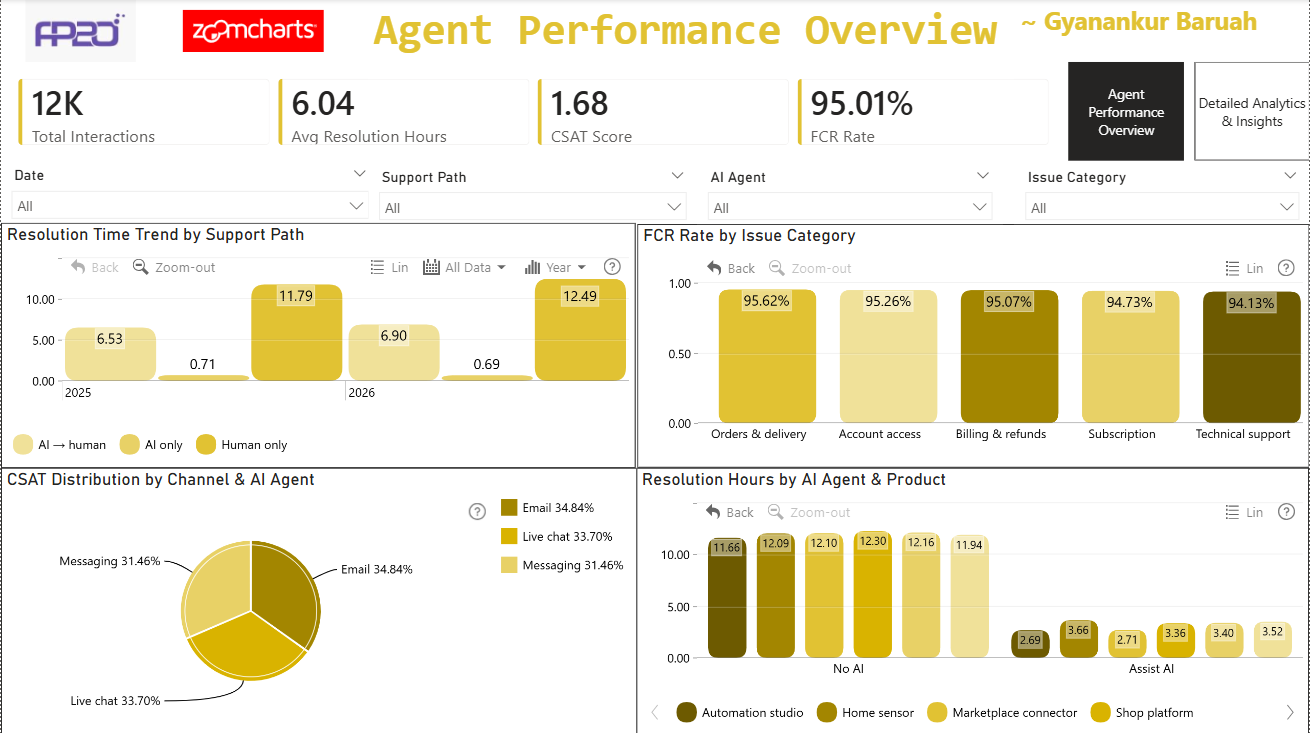

This screenshot's page, from the dashboard's own definition file:
{"tool":"powerbi","page":{"name":"Agent Performance Overview","canvas":[1280,720],"ordinal":0},"visuals":[{"type":"cardVisual","fields":{"Data":["Measures (2).Total Interactions","Measures (2).Avg Resolution Hours","Measures (2).CSAT Score","Measures (2).FCR Rate"]},"box":[0,61.1,1044.3,99],"z":0},{"type":"ZoomChartsFacetChartPaidE77E4ED357DC402ABA005987437CF500","title":"Resolution Hours by AI Agent & Product","fields":{"Category":["DimSupportRoute.AIAgent"],"Legend":["DimProduct.ProductName"],"Values1":["Measures (2).Avg Resolution Hours"]},"box":[621.4,458.6,658.6,261.4],"z":1000},{"type":"ZoomChartsDrillDownTimelinePro7F6C01BA1C534E9AB4A6BCCB44F591","title":"Resolution Time Trend by Support Path","fields":{"Legend":["DimSupportRoute.SupportPath"],"Values1":["Measures (2).Avg Resolution Hours"],"Category":["DimDate.YearMonth.Variation.Date Hierarchy.Year","DimDate.YearMonth.Variation.Date Hierarchy.Quarter","DimDate.YearMonth.Variation.Date Hierarchy.Month","DimDate.YearMonth.Variation.Date Hierarchy.Day"],"DateValue":["Min(DimDate.YearMonth)"]},"box":[0,218.9,621.2,239.7],"z":2000},{"type":"ZoomChartsDrillDownPieProC062D62DA5CE45ECB95B7B1D0E5DA558","title":"CSAT Distribution by Channel & AI Agent","fields":{"Category":["DimSupportRoute.Channel","DimSupportRoute.AIAgent"],"Values":["Measures (2).CSAT Score"]},"box":[0,458.6,622.4,261.7],"z":3000},{"type":"ZoomChartsFacetChartPaidE77E4ED357DC402ABA005987437CF500","title":"FCR Rate by Issue Category ","fields":{"Category":["DimIssueTable.IssueCategory"],"Values1":["Measures (2).FCR Rate"]},"box":[622.4,220.1,657.9,238.5],"z":4000},{"type":"slicer","fields":{"Values":["DimDate.YearMonth.Variation.Date Hierarchy.Year","DimDate.YearMonth.Variation.Date Hierarchy.Quarter","DimDate.YearMonth.Variation.Date Hierarchy.Month","DimDate.YearMonth.Variation.Date Hierarchy.Day"]},"box":[0,158.6,370,55.7],"z":5000},{"type":"slicer","fields":{"Values":["DimSupportRoute.SupportPath"]},"box":[360,160,321.4,58.6],"z":6000},{"type":"slicer","fields":{"Values":["DimSupportRoute.AIAgent"]},"box":[681.4,160,298.6,60],"z":7000},{"type":"slicer","fields":{"Values":["DimIssue.IssueCategory"]},"box":[991.4,160,288.6,60],"z":8000},{"type":"pageNavigator","box":[1044.3,61.1,236,97.8],"z":9000},{"type":"textbox","box":[360,0,631.4,78.6],"z":10000},{"type":"textbox","box":[991.4,0,288.6,61.4],"z":11000},{"type":"image","box":[0,0,155.7,61.4],"z":12000},{"type":"image","box":[168.6,0,155.7,61.4],"z":13000}]}

Visuals, with their boxes in screenshot pixels (x1, y1, x2, y2), scaled from the page's 1280x720 canvas onto the 1310x733 screenshot:
cardVisual - Measures (2).Total Interactions x Measures (2).Avg Resolution Hours: 0:62:1069:163
"Resolution Hours by AI Agent & Product" ZoomChartsFacetChartPaidE77E4ED357DC402ABA005987437CF500: 636:467:1309:732
"Resolution Time Trend by Support Path" ZoomChartsDrillDownTimelinePro7F6C01BA1C534E9AB4A6BCCB44F591: 0:223:636:467
"CSAT Distribution by Channel & AI Agent" ZoomChartsDrillDownPieProC062D62DA5CE45ECB95B7B1D0E5DA558: 0:467:637:732
"FCR Rate by Issue Category " ZoomChartsFacetChartPaidE77E4ED357DC402ABA005987437CF500: 637:224:1309:467
slicer - DimDate.YearMonth.Variation.Date Hierarchy.Year x DimDate.YearMonth.Variation.Date Hierarchy.Quarter: 0:161:379:218
slicer - DimSupportRoute.SupportPath: 368:163:697:223
slicer - DimSupportRoute.AIAgent: 697:163:1003:224
slicer - DimIssue.IssueCategory: 1015:163:1309:224
pageNavigator: 1069:62:1309:162
textbox: 368:0:1015:80
textbox: 1015:0:1309:63
image: 0:0:159:63
image: 173:0:332:63
